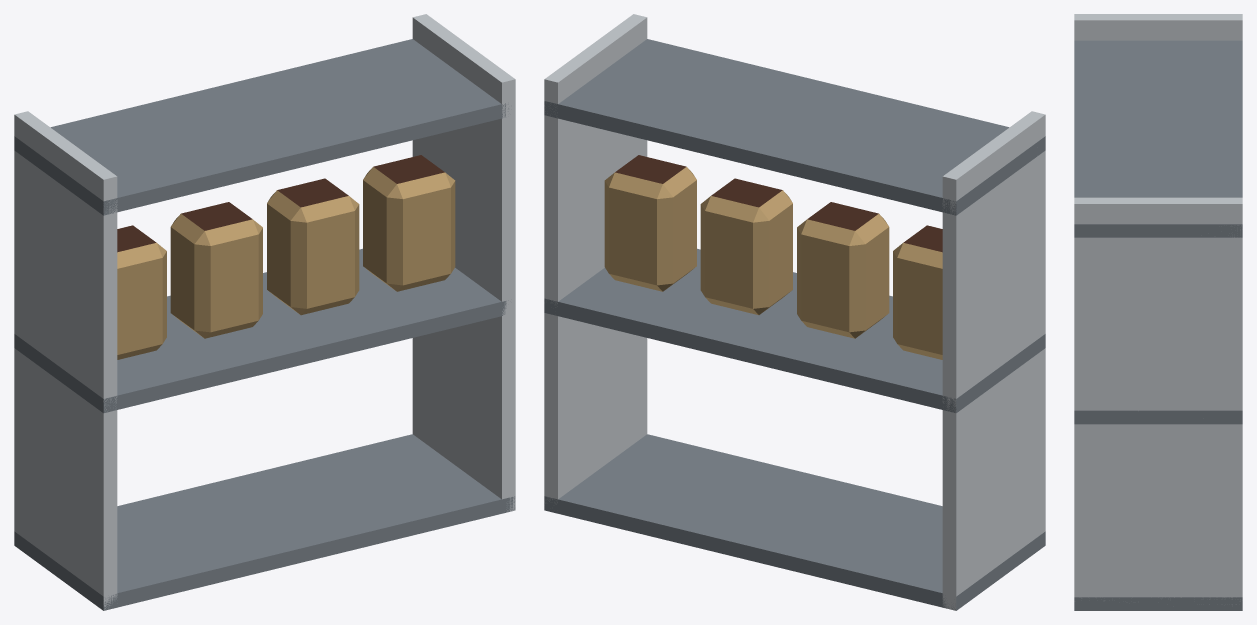
Rendered from rest_rack.fbx.
3 views of the same model, side by side, from view 1: azimuth 30°, elevation 25°; view 2: azimuth 150°, elevation 25°; view 3: azimuth 270°, elevation 25° (orthographic). The views are drawn at different scales.
Visible parts, largest first — view 1: rest_rack; view 2: rest_rack; view 3: rest_rack.
Part boxes in pixels (x1,y1,x2,y2): rest_rack: [14, 14, 515, 610]; rest_rack: [544, 14, 1045, 610]; rest_rack: [1074, 14, 1242, 610].
Size of the model in its own units: 1.2 by 1.2 by 0.45.
